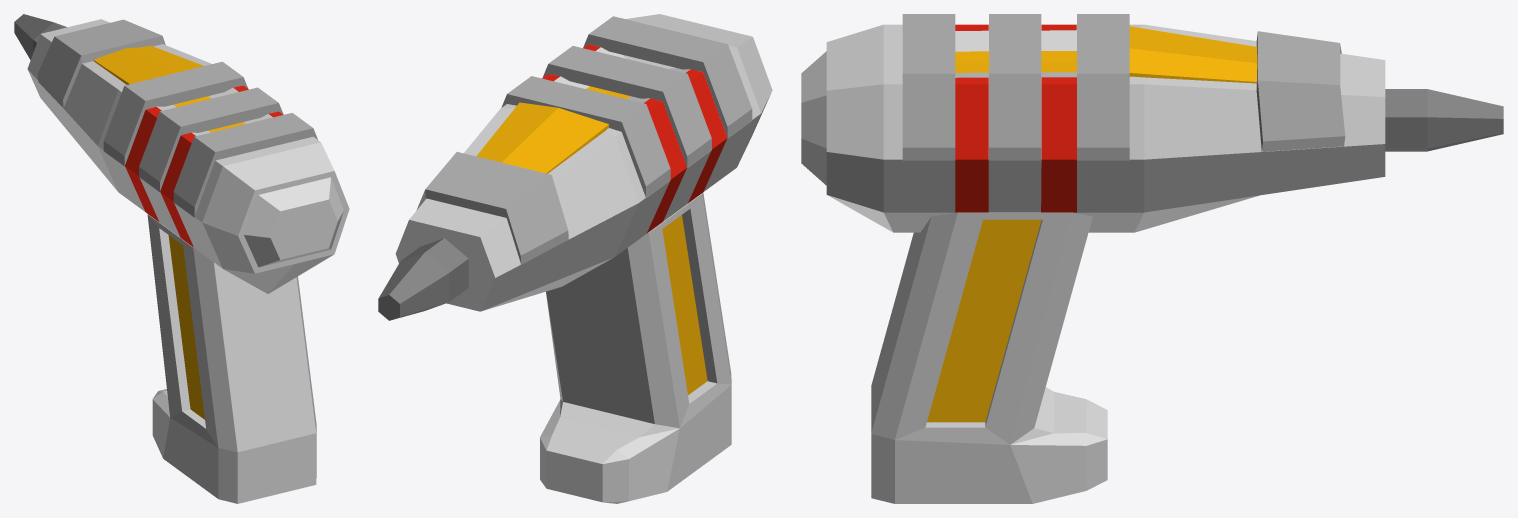
The model's file is grappler.fbx.
The picture shows the model from 3 angles, left to right: view 1: azimuth 30°, elevation 25°; view 2: azimuth 150°, elevation 25°; view 3: azimuth 270°, elevation 25°; orthographic projection. The views are drawn at different scales.
Visible parts, largest first — view 1: Cube.001; view 2: Cube.001; view 3: Cube.001.
Boxes of the visible parts, x1,y1,x2,y2 form: Cube.001: [14, 14, 349, 503]; Cube.001: [378, 14, 772, 503]; Cube.001: [801, 14, 1503, 503].
Bounding box in the file's own units: 280 × 681 × 993.
